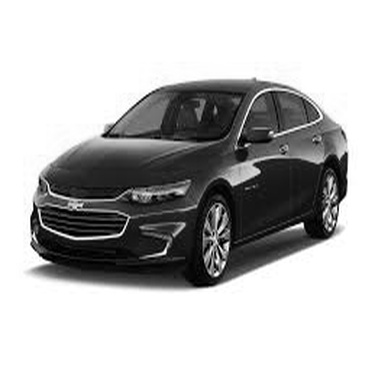car: (31, 79, 353, 276)
